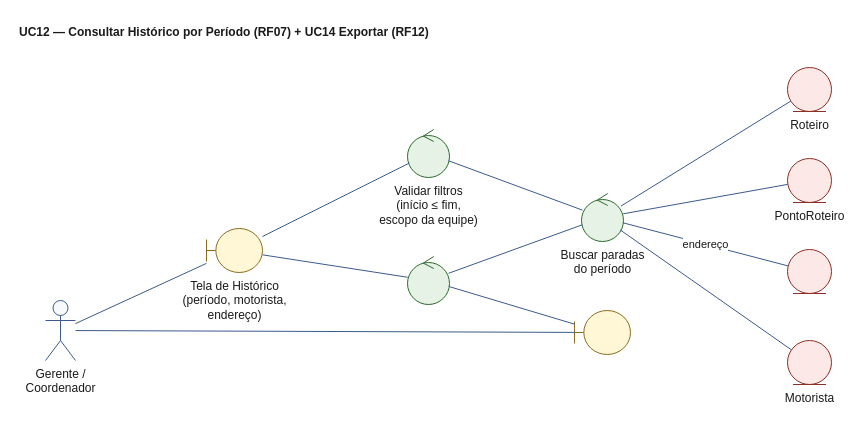
Some shapes in this 861 by 422 pixel diagram are drawn without their labels. Each missing label, with the centre of its shape:
"Arquivo CSV exportado" belongs at (602,332).
"Gerar CSV" belongs at (428,280).
"Ponto" belongs at (809,271).
